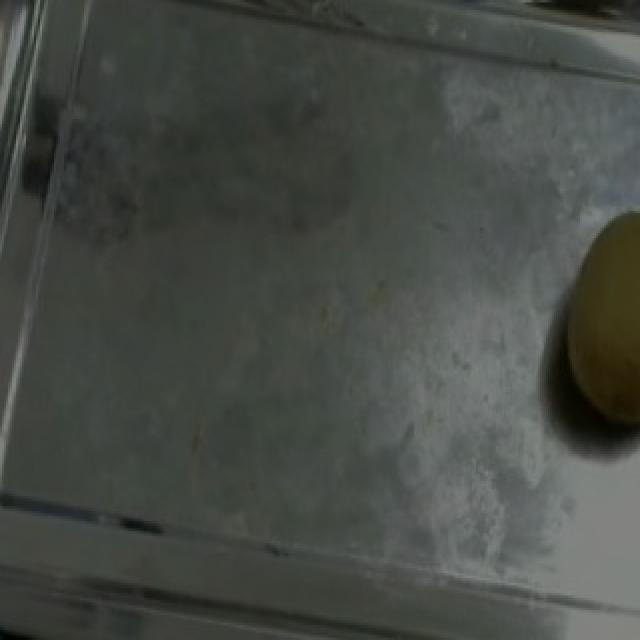Fruit: (538, 194, 640, 456)
